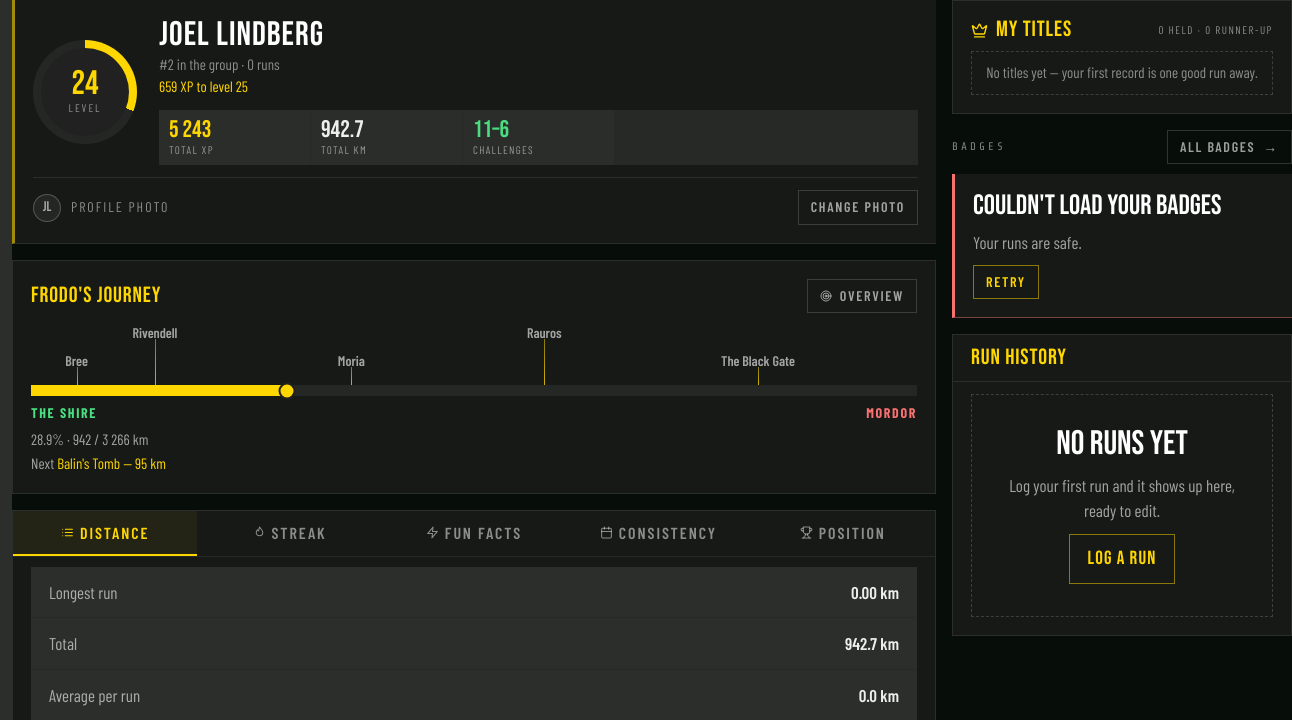
Test: Profile — badge-lägen (F10.5) › badge-fel lämnar resten av profilen orörd, Retry hämtar om
Expected: the text "Your runs are safe." is shown, top-left (973, 230), bottom-right (1082, 255)
Expected: the heading "Joel Lindberg" is shown, top-left (159, 14), bottom-right (324, 55)
Click the button "Retry": (1006, 282) top-left (973, 265), bottom-right (1039, 299)
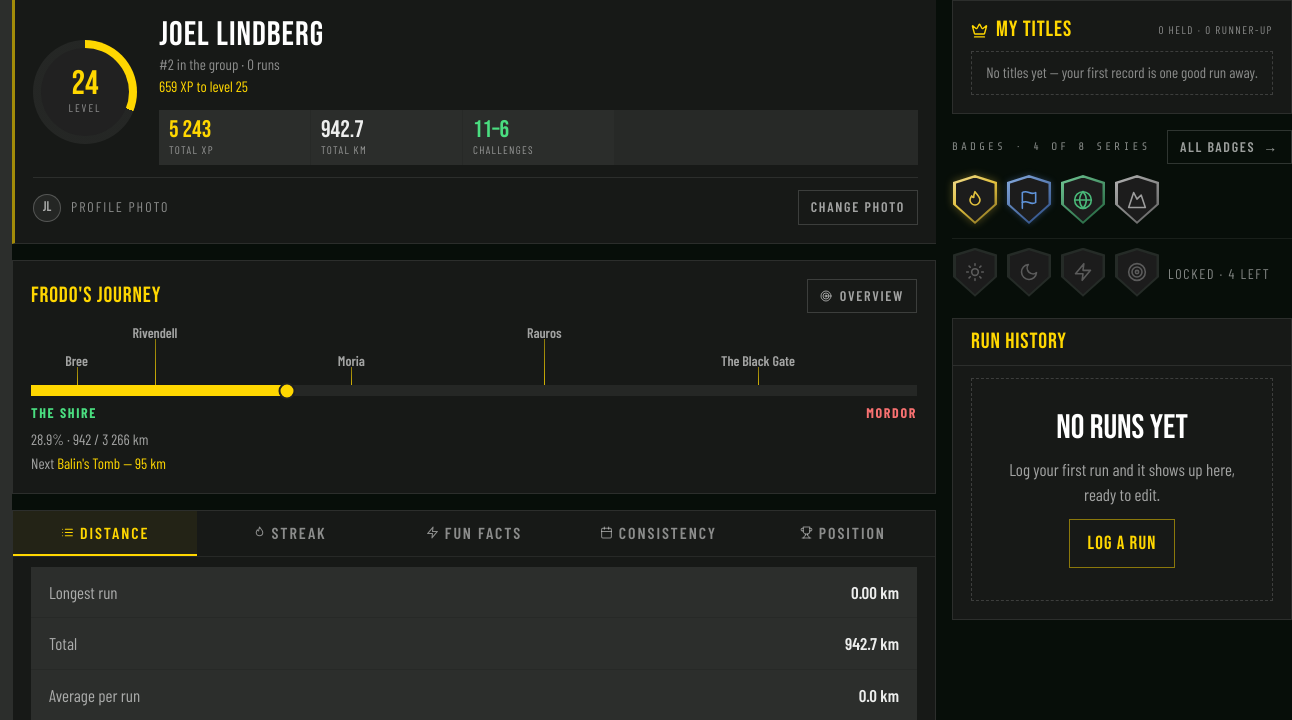
Expected: the list named "Earned badges" is shown, top-left (952, 174), bottom-right (1160, 225)
Expected: the heading "Couldn't load your badges" is gone
